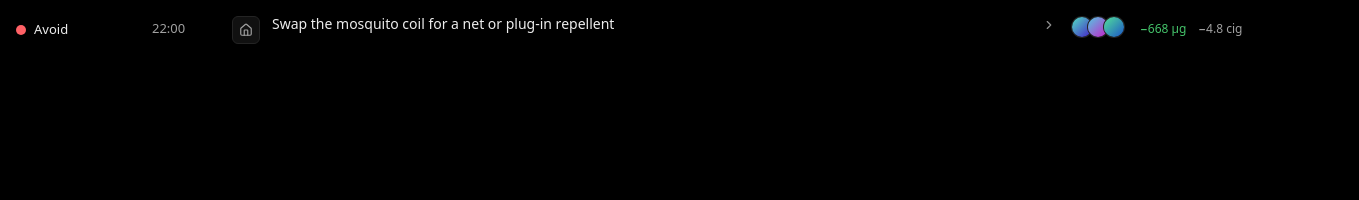
RoutineRow › expands to show the reasoning and impact
What coordinates should you click on to do the following:
click the button "Swap the mosquito coil for a net or plug-in repellent"
I would click on:
 (443, 24)
Its box is [232, 14, 1056, 44].
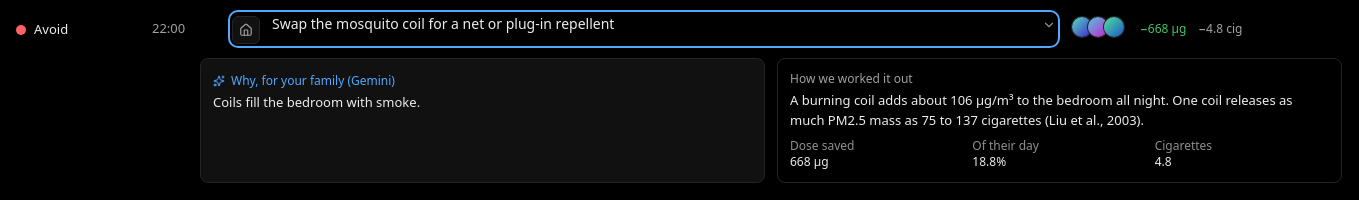
Expected: the button "Swap the mosquito coil for a net or plug-in repellent" is expanded, [232, 14, 1056, 44]
Expected: the text "Coils fill the bedroom with smoke." is shown, [213, 93, 420, 111]
Expected: the text "Liu et al" is shown, [790, 91, 1293, 128]
